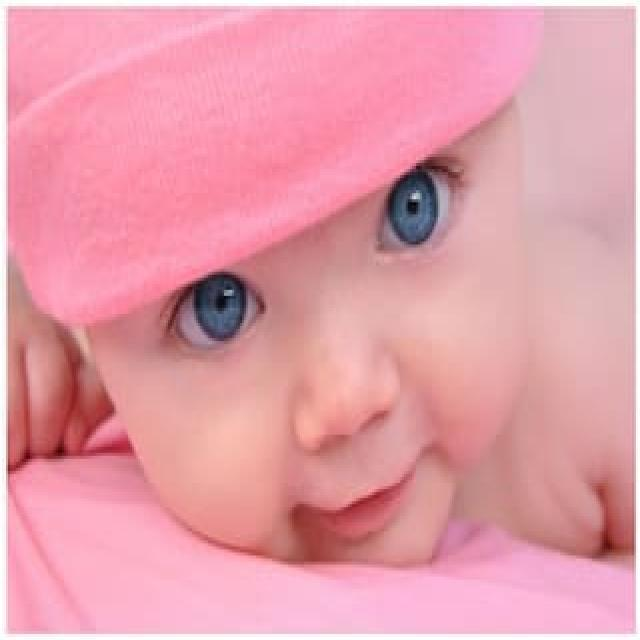non-dog: (5, 6, 636, 634)
